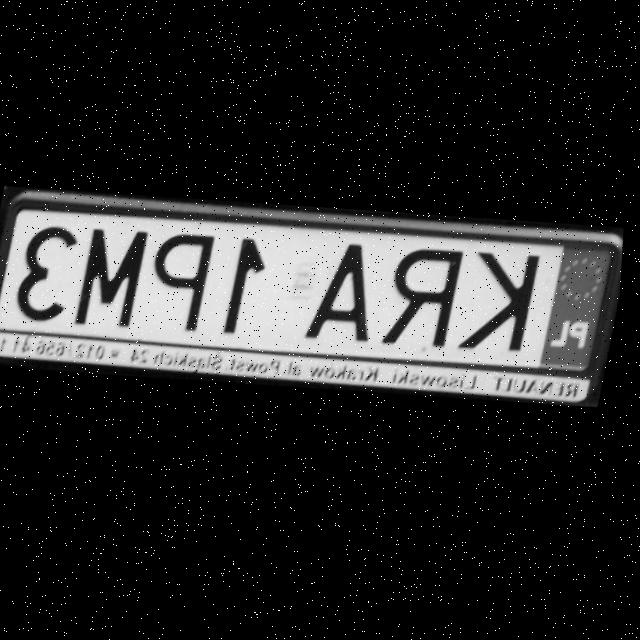license-plates: (0, 209, 613, 372)
